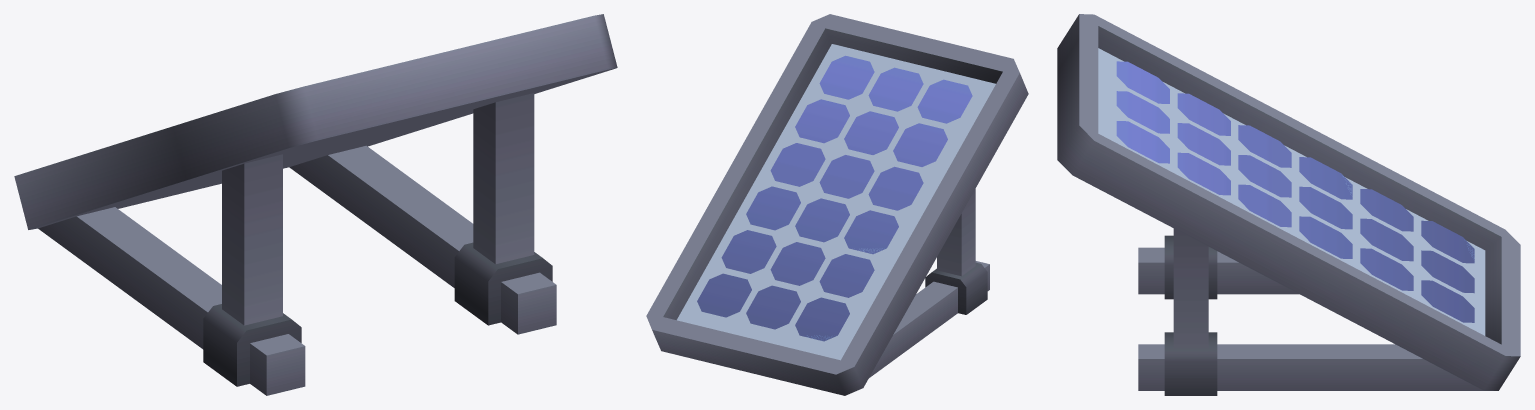
File: solar-panel-portrait.glb
3 views of the same model, side by side, from view 1: azimuth 30°, elevation 25°; view 2: azimuth 150°, elevation 25°; view 3: azimuth 270°, elevation 25° (orthographic). The views are drawn at different scales.
Visible parts, largest first — view 1: solar-panel-portrait; view 2: solar-panel-portrait; view 3: solar-panel-portrait.
Boxes of the visible parts, x1,y1,x2,y2 form: solar-panel-portrait: (14, 14, 617, 395); solar-panel-portrait: (646, 14, 1028, 395); solar-panel-portrait: (1057, 14, 1520, 395).
Size of the model in its own units: 0.4182 by 0.41 by 0.6486.
1 material, 1 textured.
